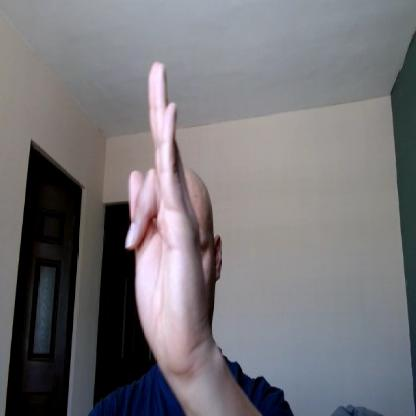F: (123, 58, 212, 363)
